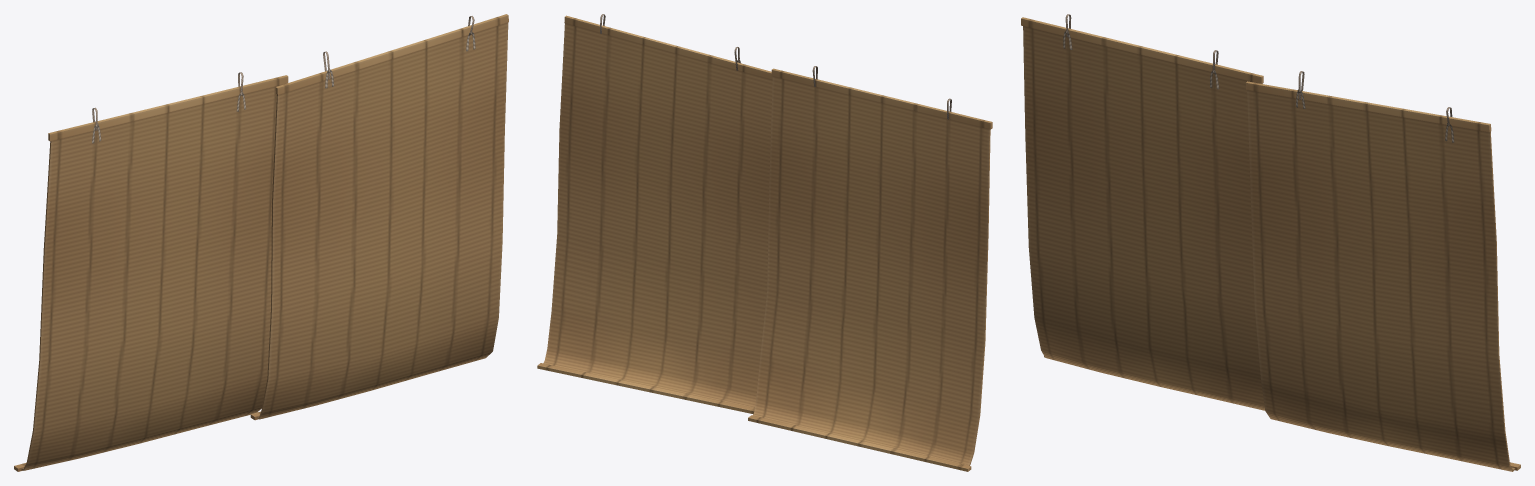
File: jsf_BackSide_s02_c07.fbx
The picture shows the model from 3 angles, left to right: view 1: azimuth 30°, elevation 25°; view 2: azimuth 150°, elevation 25°; view 3: azimuth 330°, elevation 25°; orthographic projection. The views are drawn at different scales.
Visible parts, largest first — view 1: jsf_BackSide_s02_c07; view 2: jsf_BackSide_s02_c07; view 3: jsf_BackSide_s02_c07.
Boxes of the visible parts, box(x1,y1,x2,y2) form: jsf_BackSide_s02_c07: box(14, 14, 508, 471); jsf_BackSide_s02_c07: box(537, 14, 992, 471); jsf_BackSide_s02_c07: box(1021, 14, 1520, 471).
Bounding box in the file's own units: 248 × 187 × 33.59.
